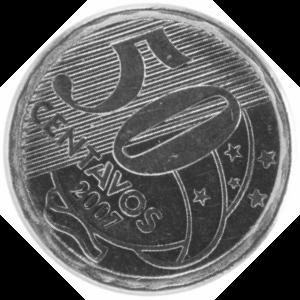50 cent: (3, 1, 293, 295)
